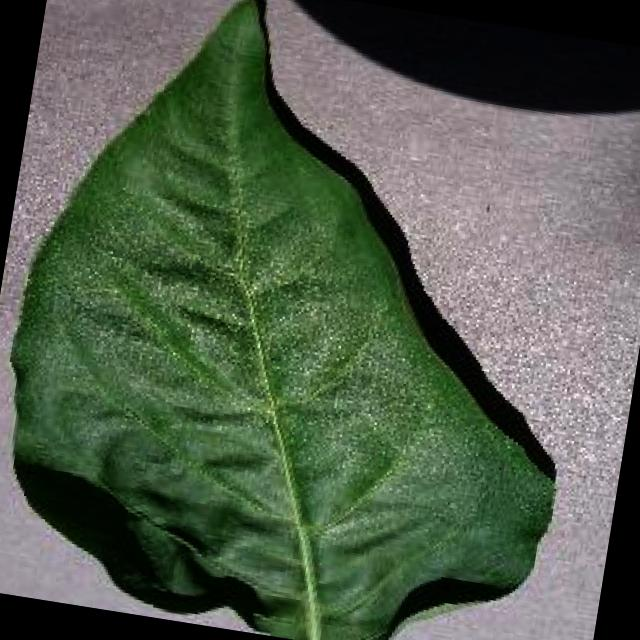Leaf: (0, 69, 613, 600)
